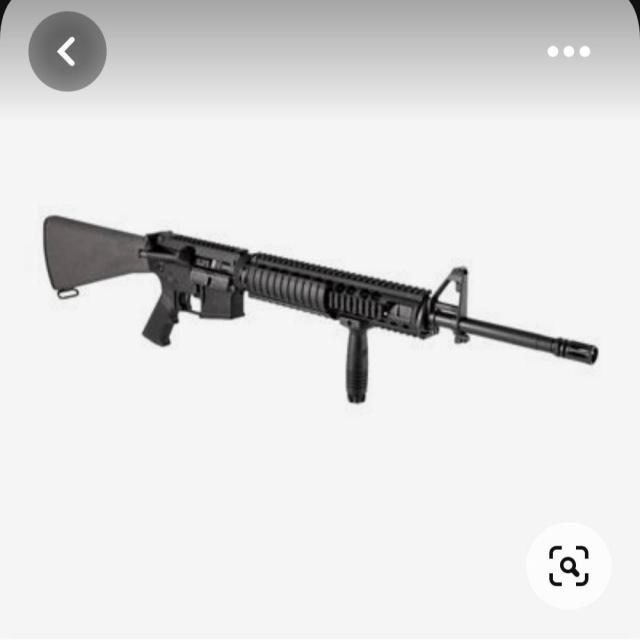m16: (28, 182, 477, 422)
